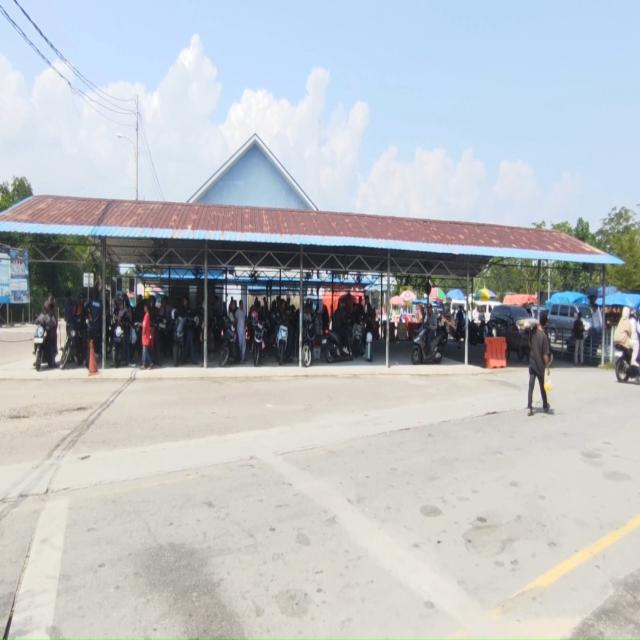Golongan II: (172, 310, 200, 367), (411, 323, 447, 364), (60, 320, 84, 370), (34, 314, 54, 372), (219, 319, 240, 367), (326, 330, 354, 364), (614, 344, 639, 382), (111, 316, 127, 368), (157, 316, 174, 357), (302, 320, 316, 368), (276, 322, 289, 365), (463, 321, 486, 345), (252, 321, 264, 366), (352, 321, 366, 356)
